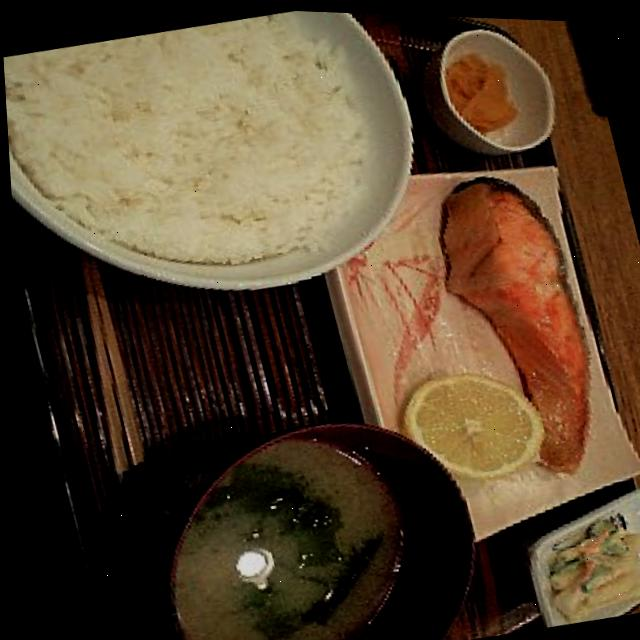熟制海鲜: (417, 147, 632, 490)
